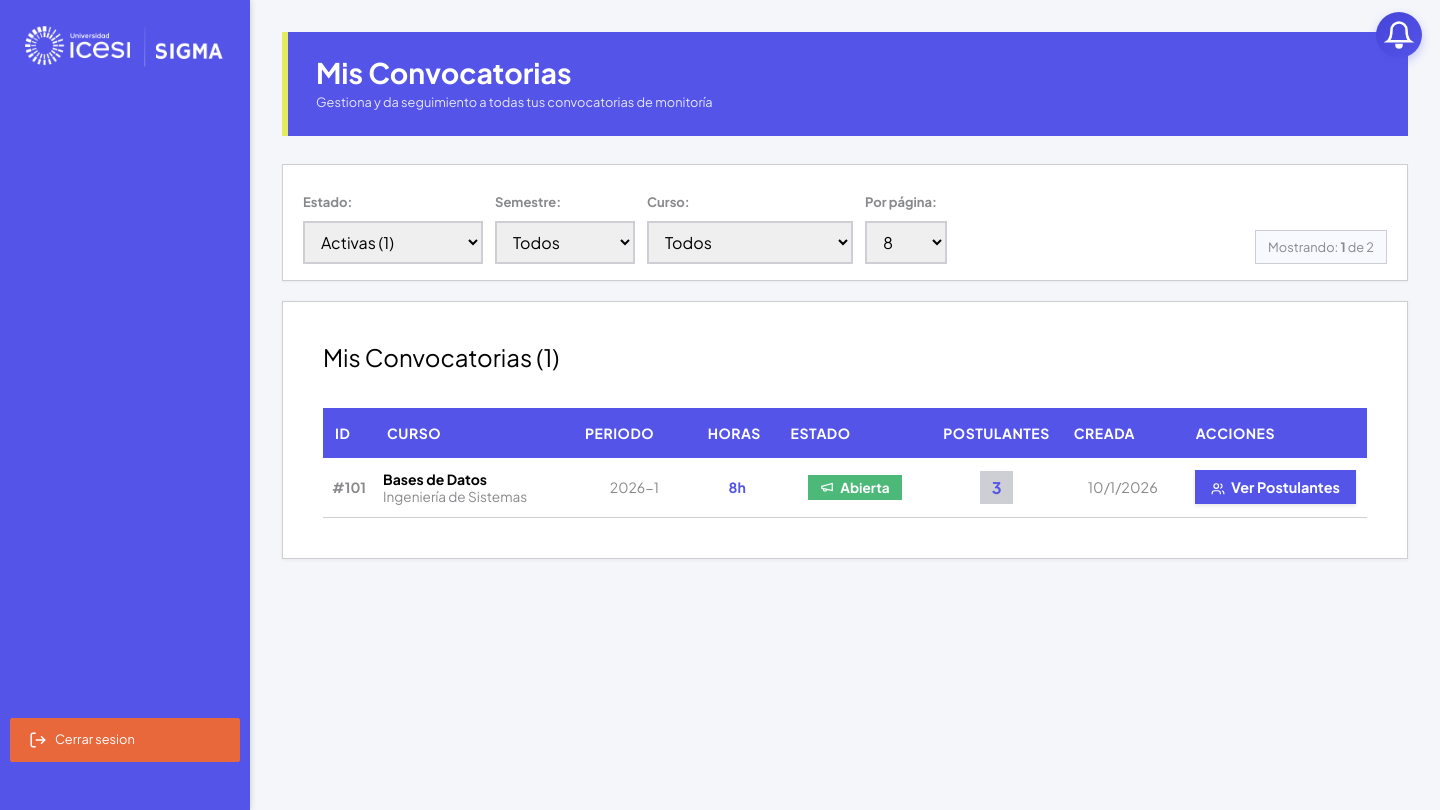
Test: ConvocatoriasCaducidadGestionHU010 › Debe mostrar "No se encontraron convocatorias" cuando filtro no coincide
Expected: the text "Bases de Datos" is shown, [383,470,487,488]
Select "RECHAZADA" in the dropdown below "Estado:": (393, 242) [303,221,483,264]
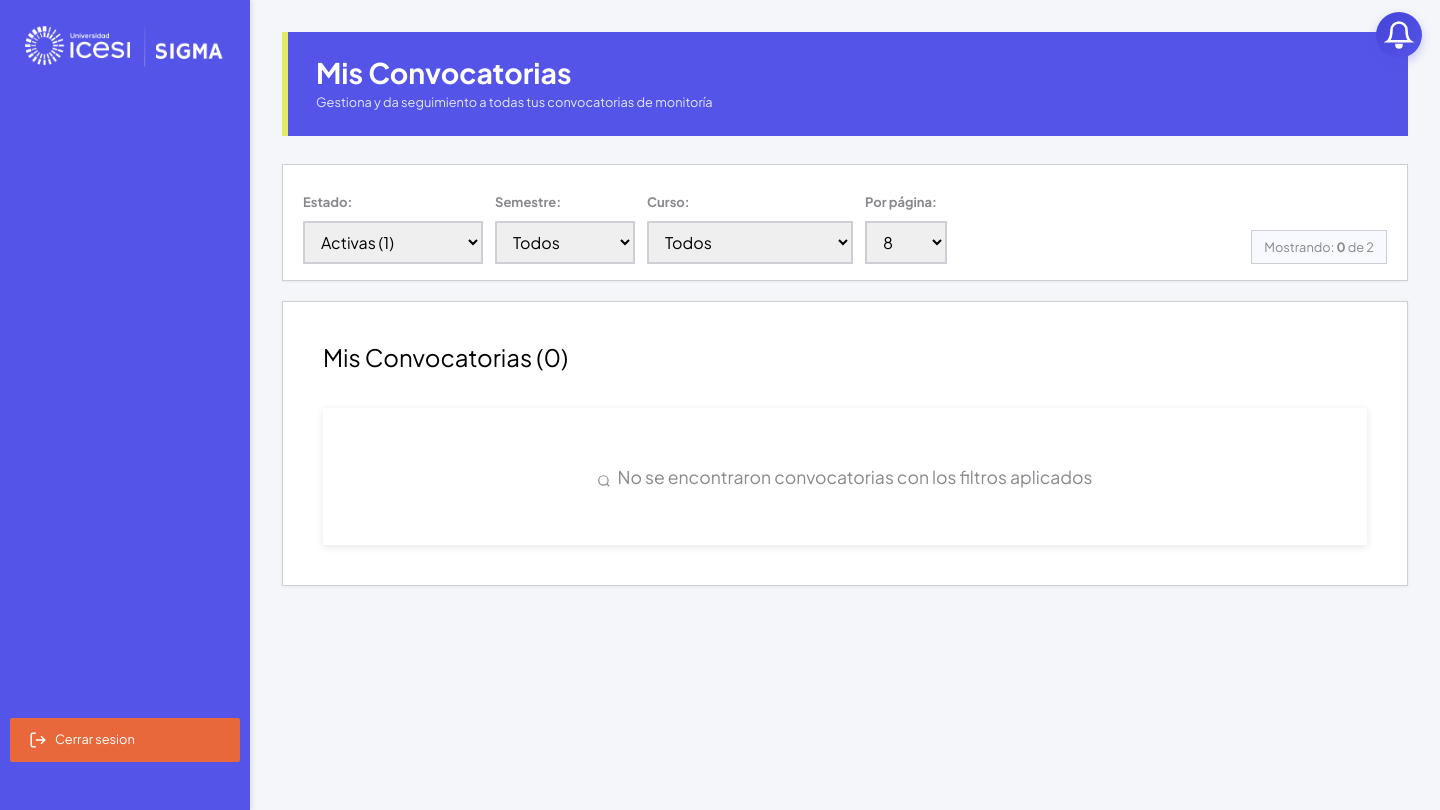
Result: the text "No se encontraron convocatorias con los filtros aplicados" is shown at [598,466,1092,488]
